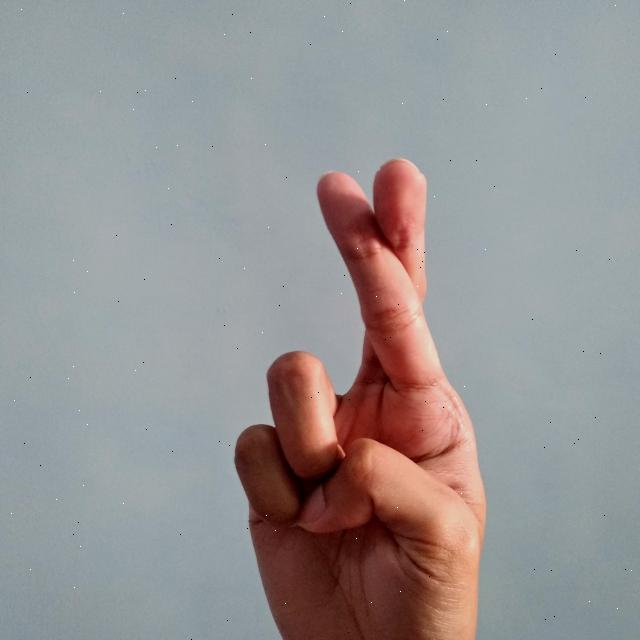R: (231, 152, 494, 640)
